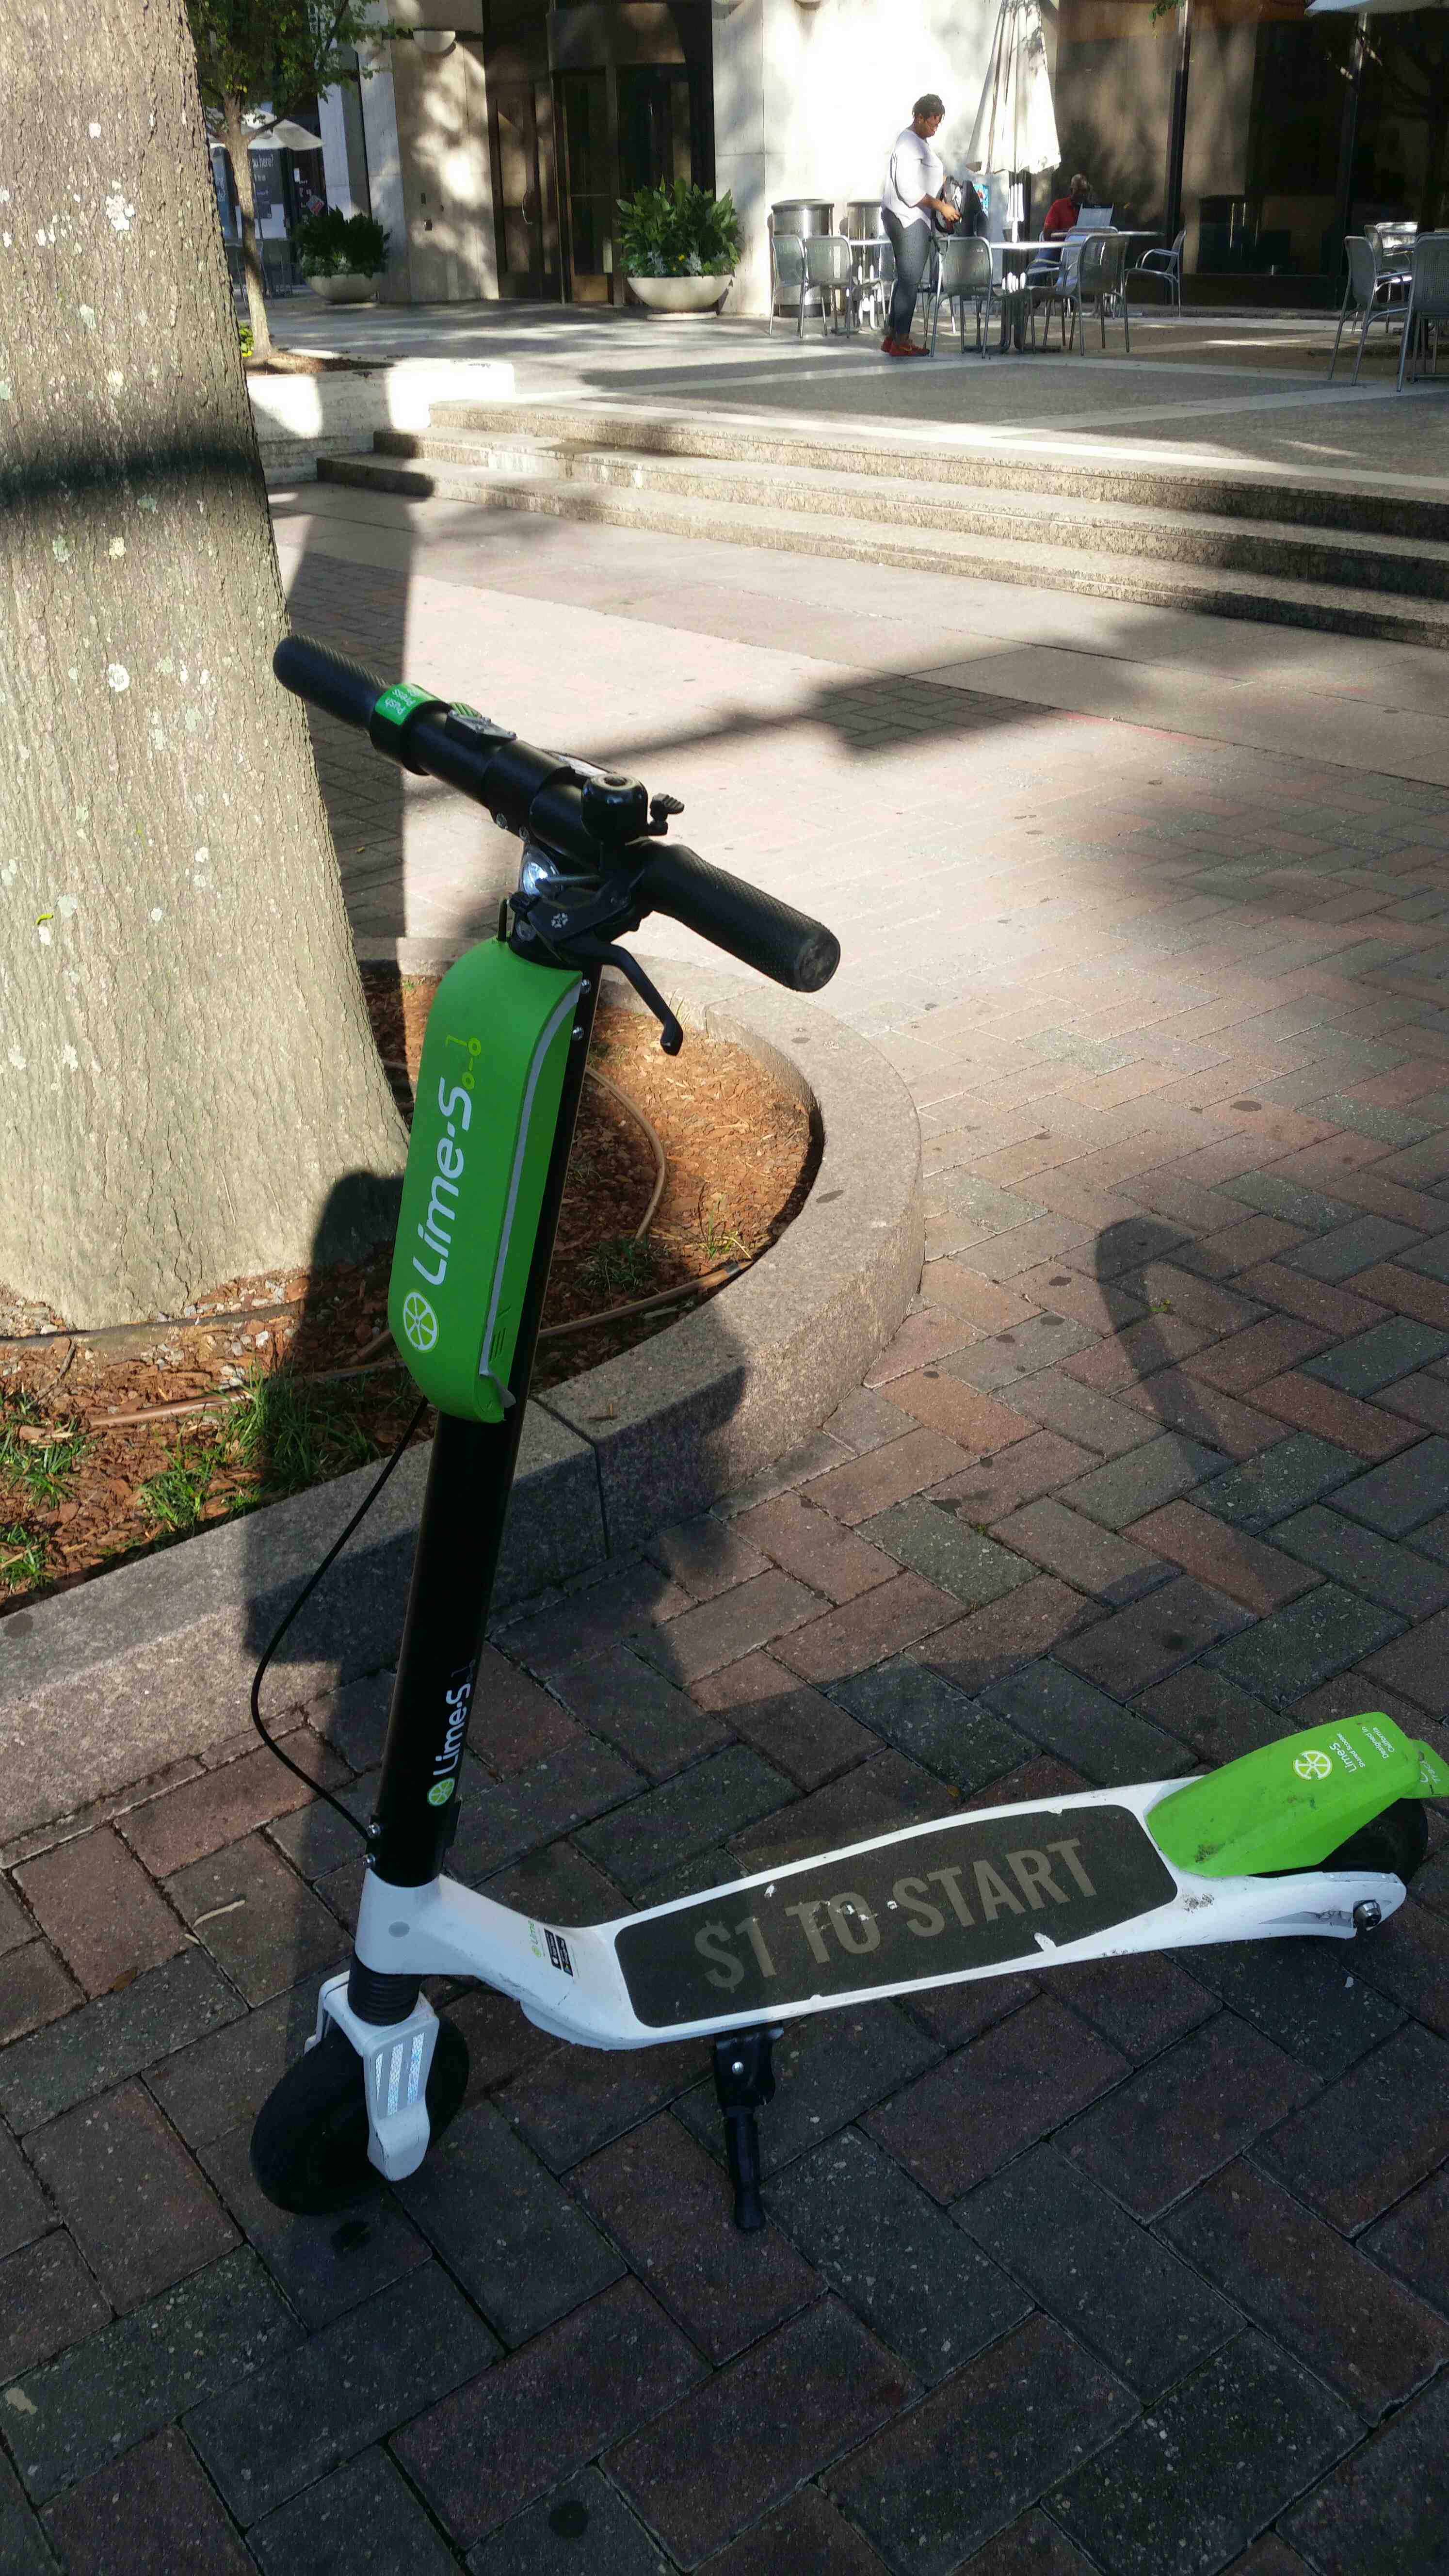scooter: (198, 545, 1449, 2206)
